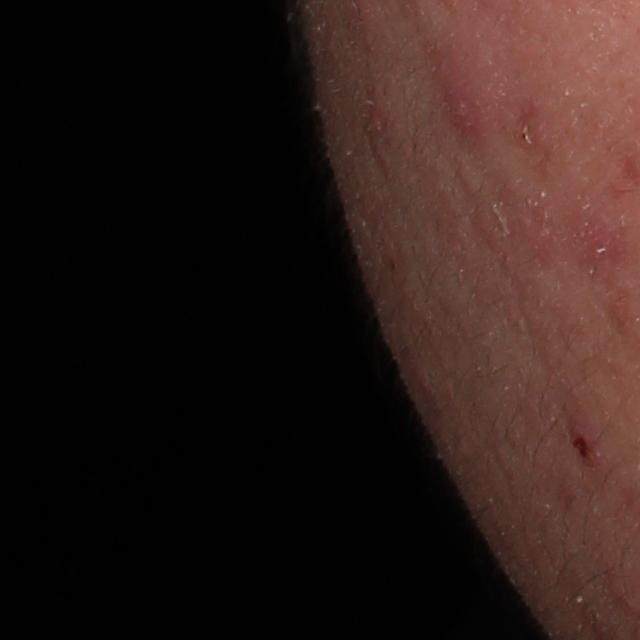papule: (425, 58, 502, 150), (562, 415, 611, 475)
